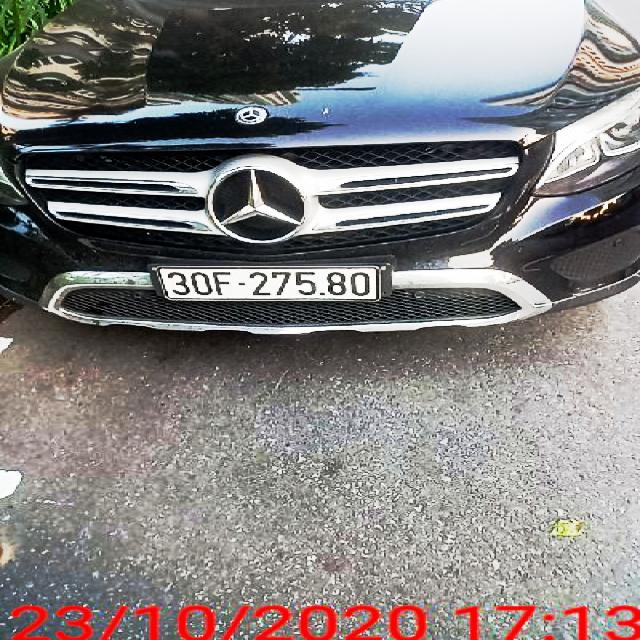license_plate: (164, 267, 386, 301)
